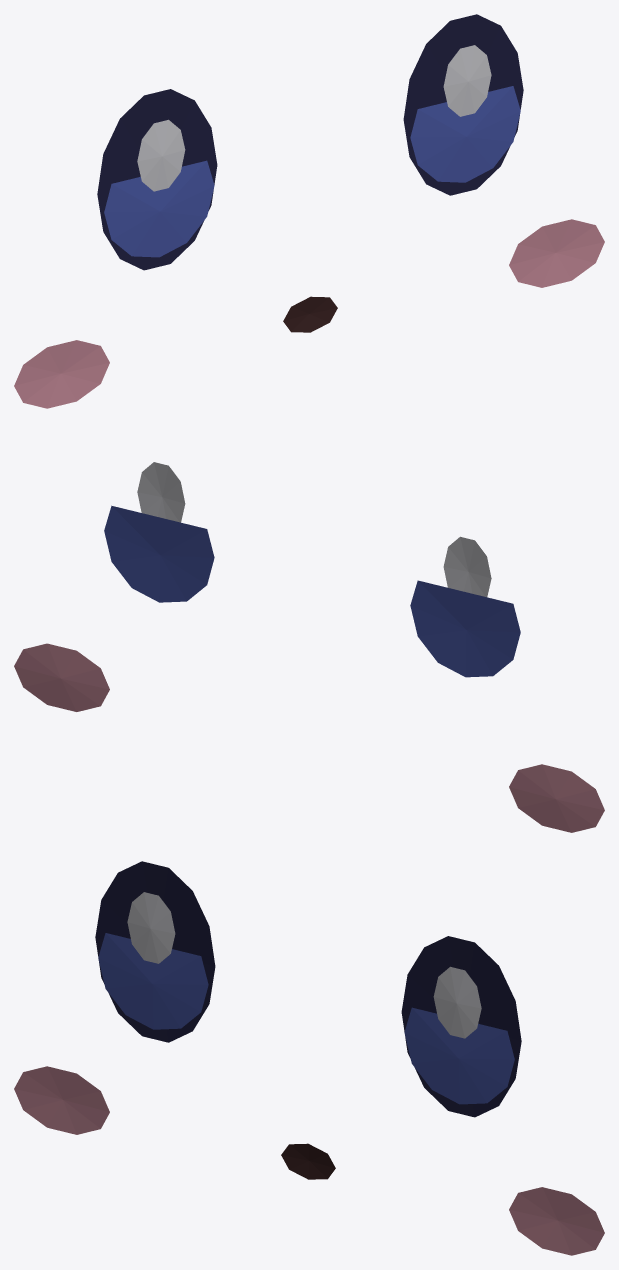
The model's file is Kirby_Face.glb.
3 views of the same model, one above another, from view 1: azimuth 30°, elevation 25°; view 2: azimuth 150°, elevation 25°; view 3: azimuth 330°, elevation 25° (orthographic).
Visible parts, largest first — view 1: Kirby_Face_Merged; view 2: Kirby_Face_Merged; view 3: Kirby_Face_Merged.
Part boxes in pixels (left/top/right/bottom): Kirby_Face_Merged: left=14, top=14, right=604, bottom=408; Kirby_Face_Merged: left=14, top=462, right=604, bottom=832; Kirby_Face_Merged: left=14, top=861, right=604, bottom=1255.
Bounding box in the file's own units: 0.3445 × 0.1619 × 0.007.
